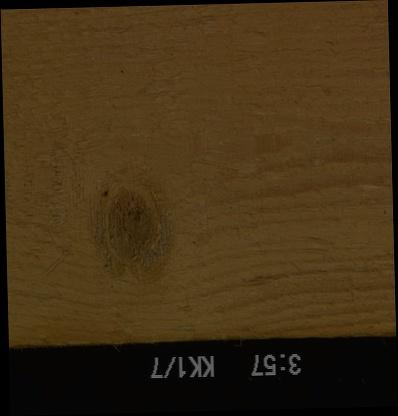sound_knot: (91, 176, 170, 279)
